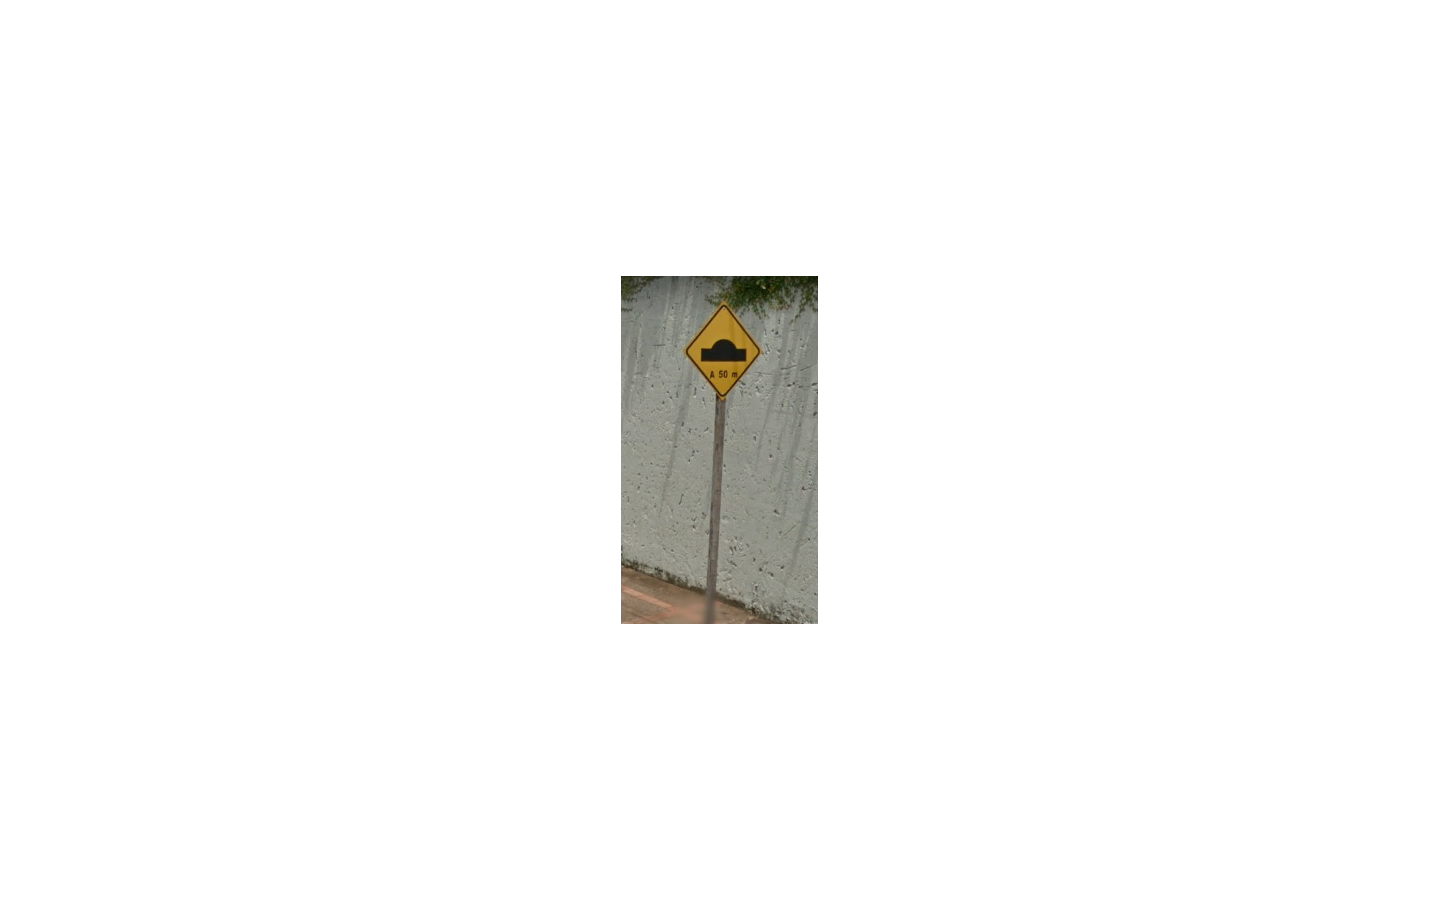l50m: (683, 301, 762, 400)
